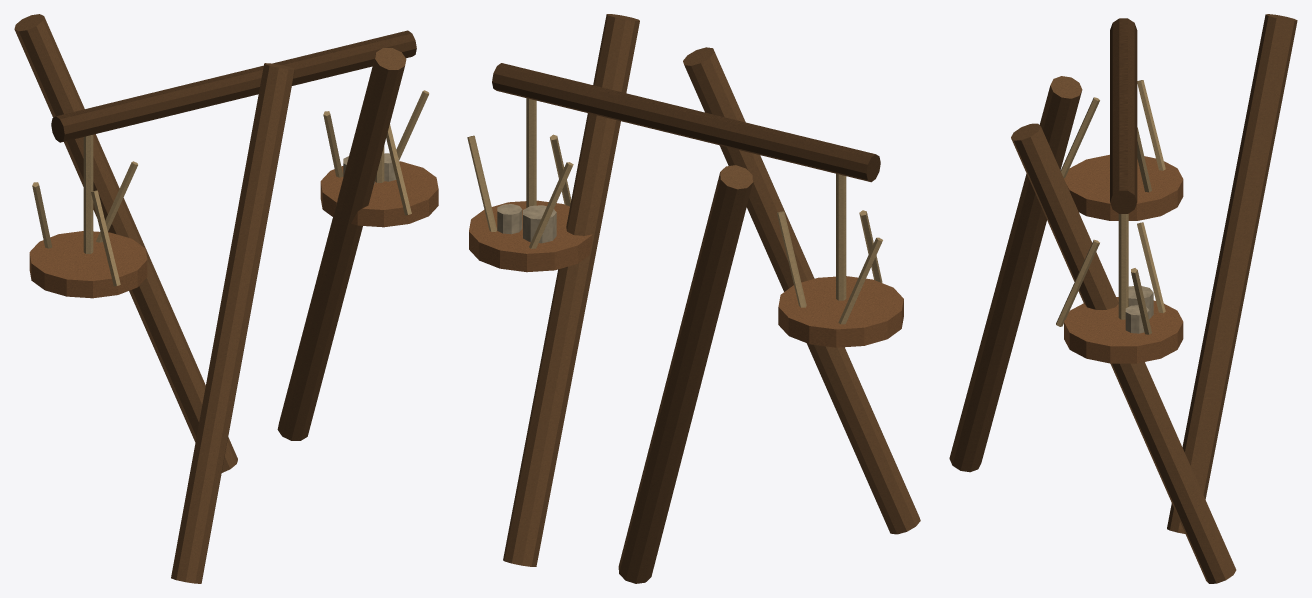
The model's file is toll-scale.glb.
The picture shows the model from 3 angles, left to right: view 1: azimuth 30°, elevation 25°; view 2: azimuth 150°, elevation 25°; view 3: azimuth 270°, elevation 25°; orthographic projection. The views are drawn at different scales.
Parts seen in each view (by area): view 1: Cylinder; view 2: Cylinder; view 3: Cylinder.
Boxes of the visible parts, x1,y1,x2,y2 form: Cylinder: [14, 14, 438, 583]; Cylinder: [467, 14, 920, 583]; Cylinder: [949, 14, 1297, 583].
Size of the model in its own units: 1.69 by 1.84 by 1.28.
Materials: 1 (1 with a texture image).
